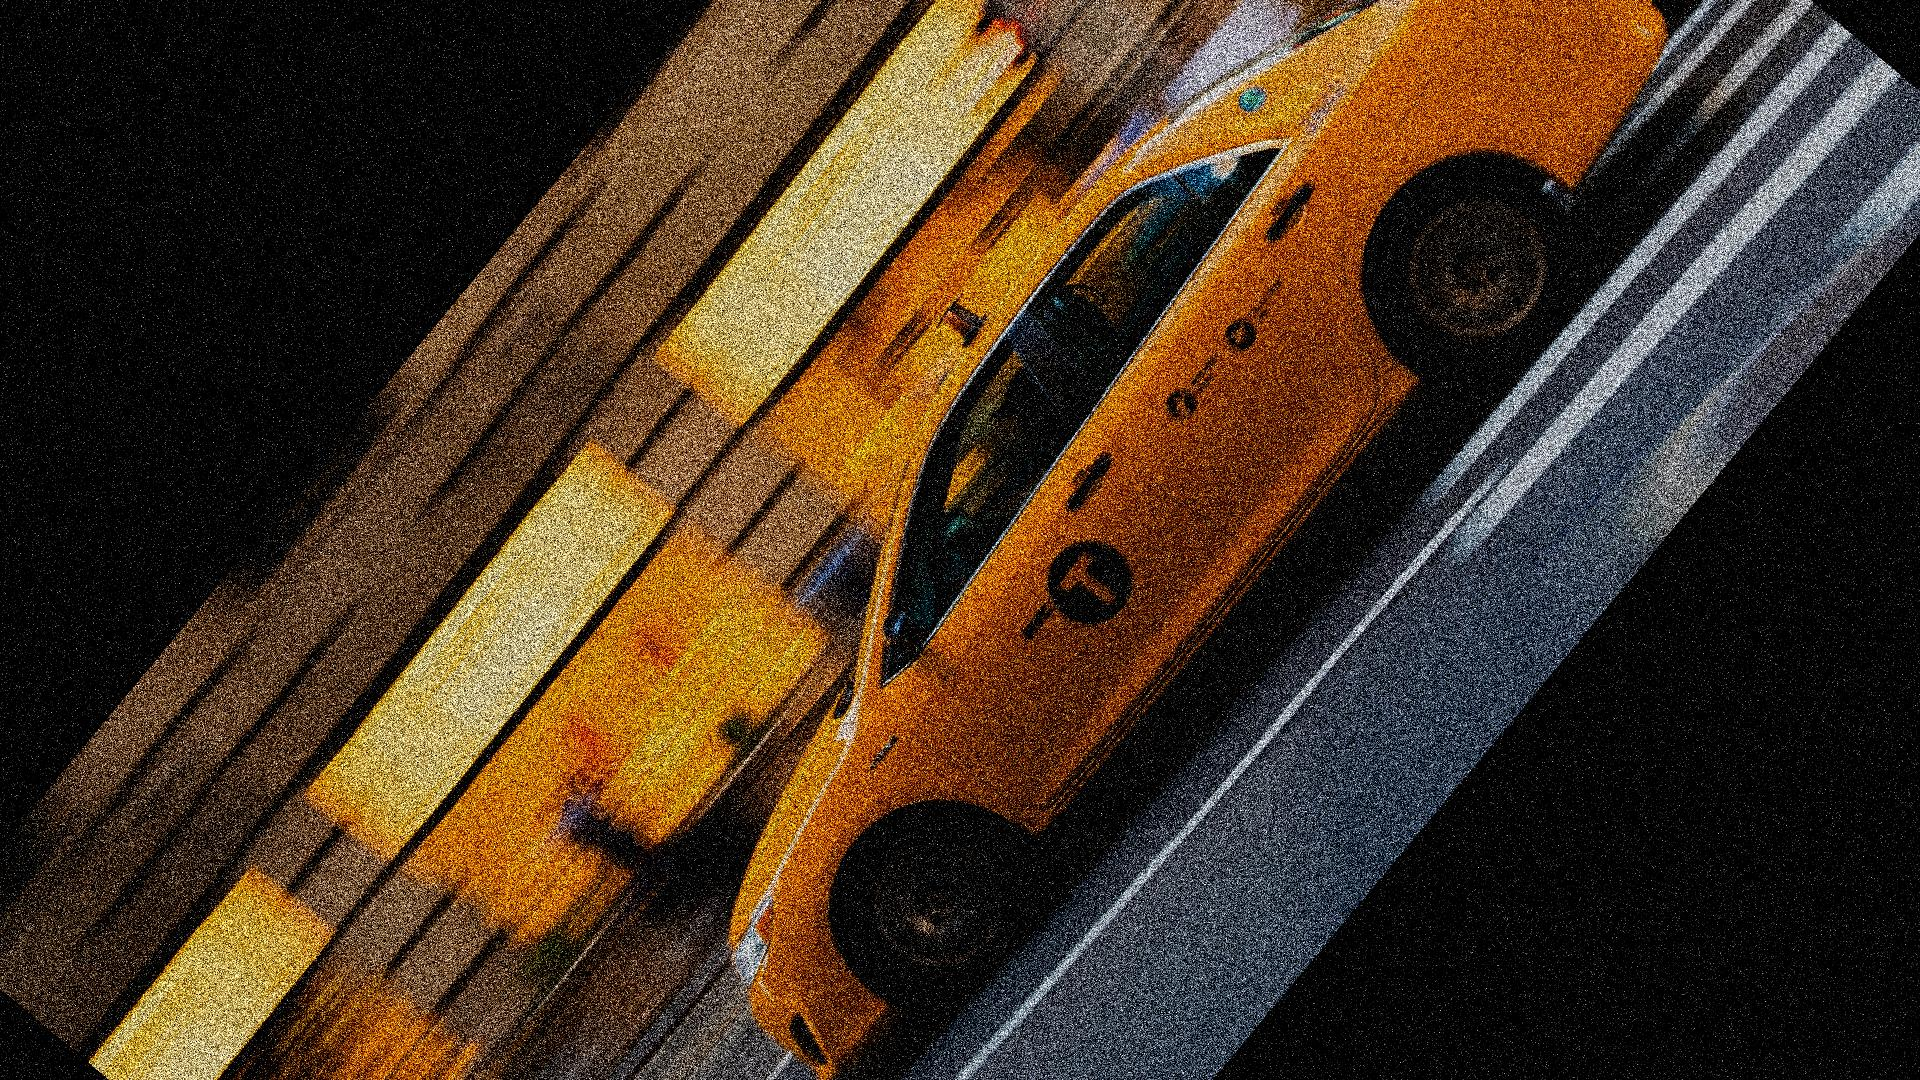taxi: (684, 1, 1697, 1067)
